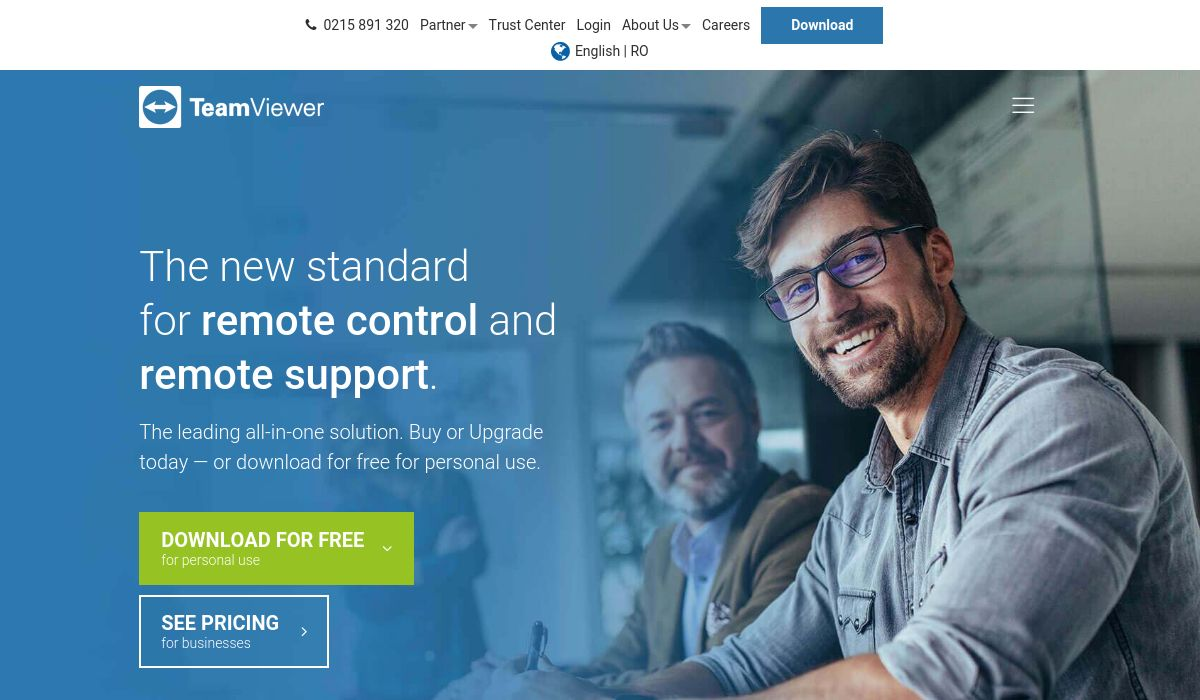menu: (1, 1, 1200, 69)
menu-button: (761, 8, 883, 44), (304, 10, 410, 37), (550, 39, 654, 64), (620, 8, 692, 39), (487, 10, 569, 37), (415, 10, 479, 38), (568, 9, 620, 38), (702, 9, 754, 38)
